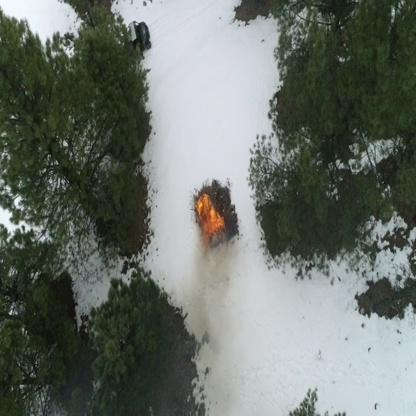Fire: (193, 191, 226, 250)
